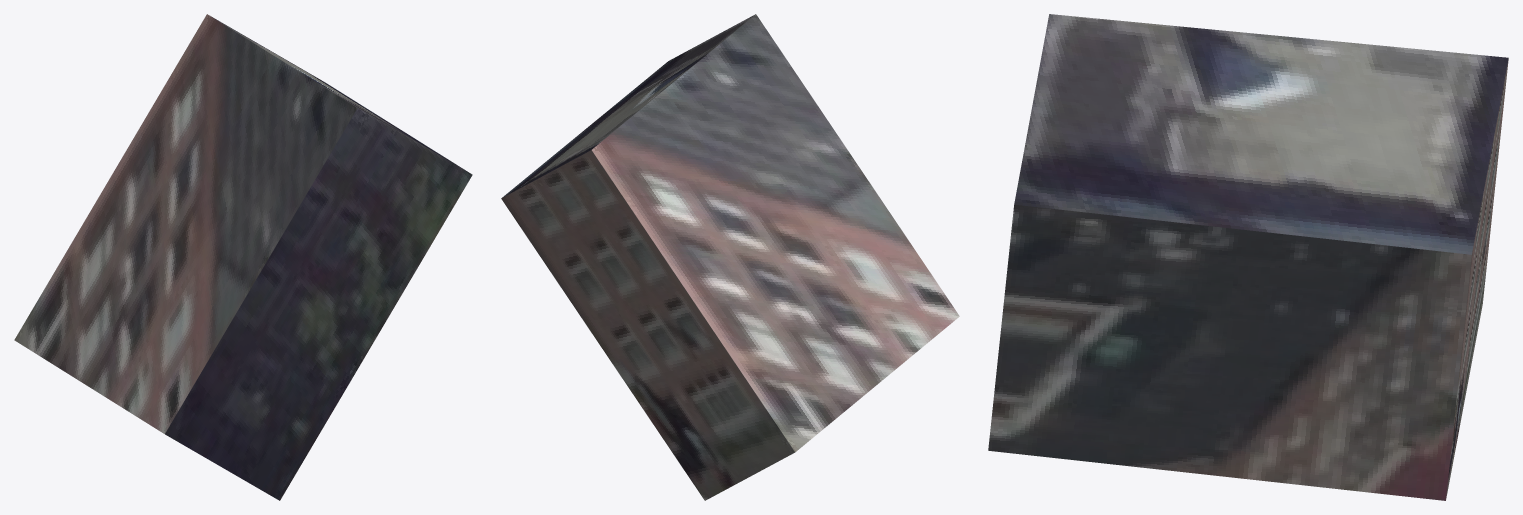
3 renders of one model, left to right at view 1: azimuth 30°, elevation 25°; view 2: azimuth 150°, elevation 25°; view 3: azimuth 270°, elevation 25°, orthographic. The views are drawn at different scales.
Parts seen in each view (by area): view 1: BAG_0599100000638393; view 2: BAG_0599100000638393; view 3: BAG_0599100000638393.
Part boxes in pixels (left/top/right/bottom): BAG_0599100000638393: left=14, top=14, right=472, bottom=500; BAG_0599100000638393: left=501, top=14, right=959, bottom=500; BAG_0599100000638393: left=988, top=14, right=1508, bottom=500.
Bounding box in the file's own units: 13.33 × 15.28 × 13.19.
2 materials, 1 textured.
